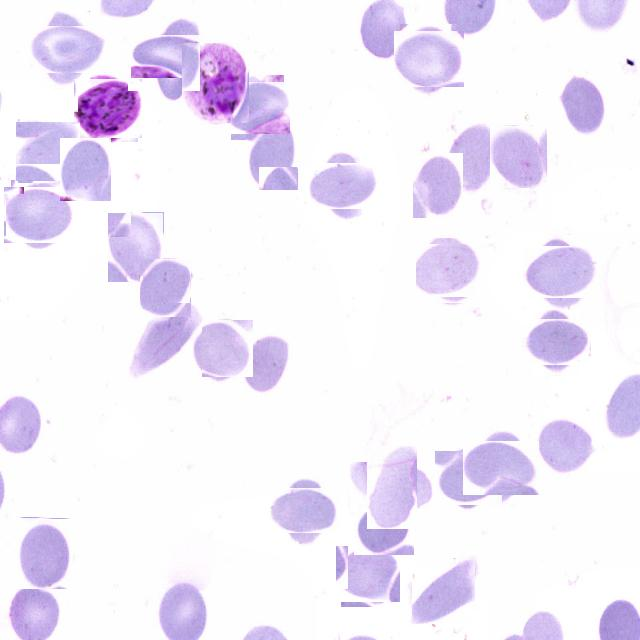red blood cell: (126, 303, 202, 381), (142, 23, 210, 90), (358, 454, 426, 520), (468, 436, 534, 502), (412, 557, 476, 624), (396, 27, 461, 91), (528, 240, 592, 304), (34, 18, 98, 81), (108, 212, 164, 282), (8, 184, 70, 247), (18, 518, 72, 590), (446, 119, 500, 191), (246, 116, 298, 190), (189, 317, 251, 379), (17, 120, 79, 182), (338, 544, 399, 605), (438, 448, 499, 508), (490, 125, 548, 188), (274, 480, 334, 540), (419, 241, 478, 300), (228, 78, 287, 137), (537, 416, 597, 474), (528, 312, 586, 370), (315, 157, 373, 215), (354, 499, 414, 555), (413, 153, 463, 218), (60, 138, 111, 201), (241, 330, 291, 394), (558, 74, 606, 138), (140, 258, 191, 317)
schizont: (76, 76, 140, 140)
trophozoite: (182, 42, 250, 123)
